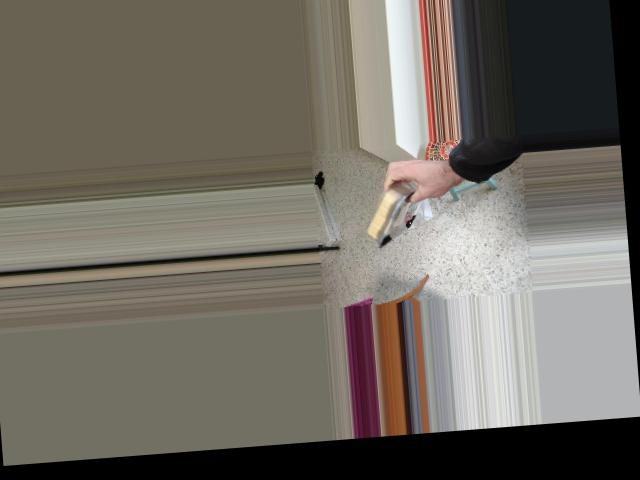cheese: (347, 148, 441, 262)
